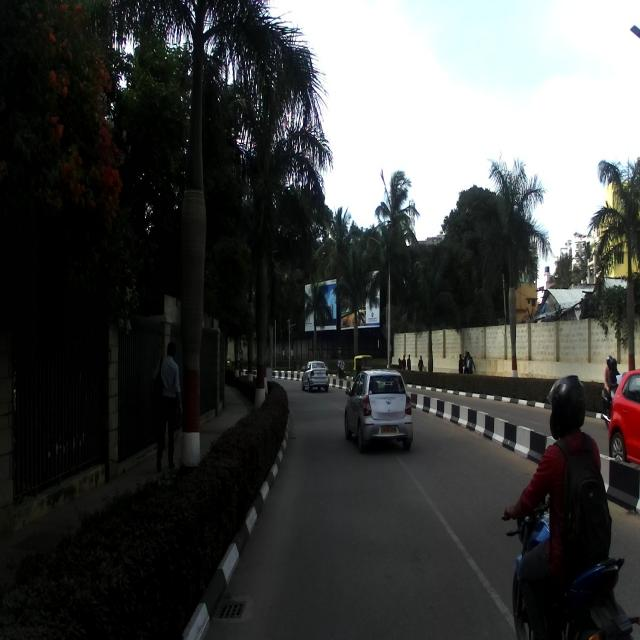Car_Toyota: (343, 366, 414, 450)
